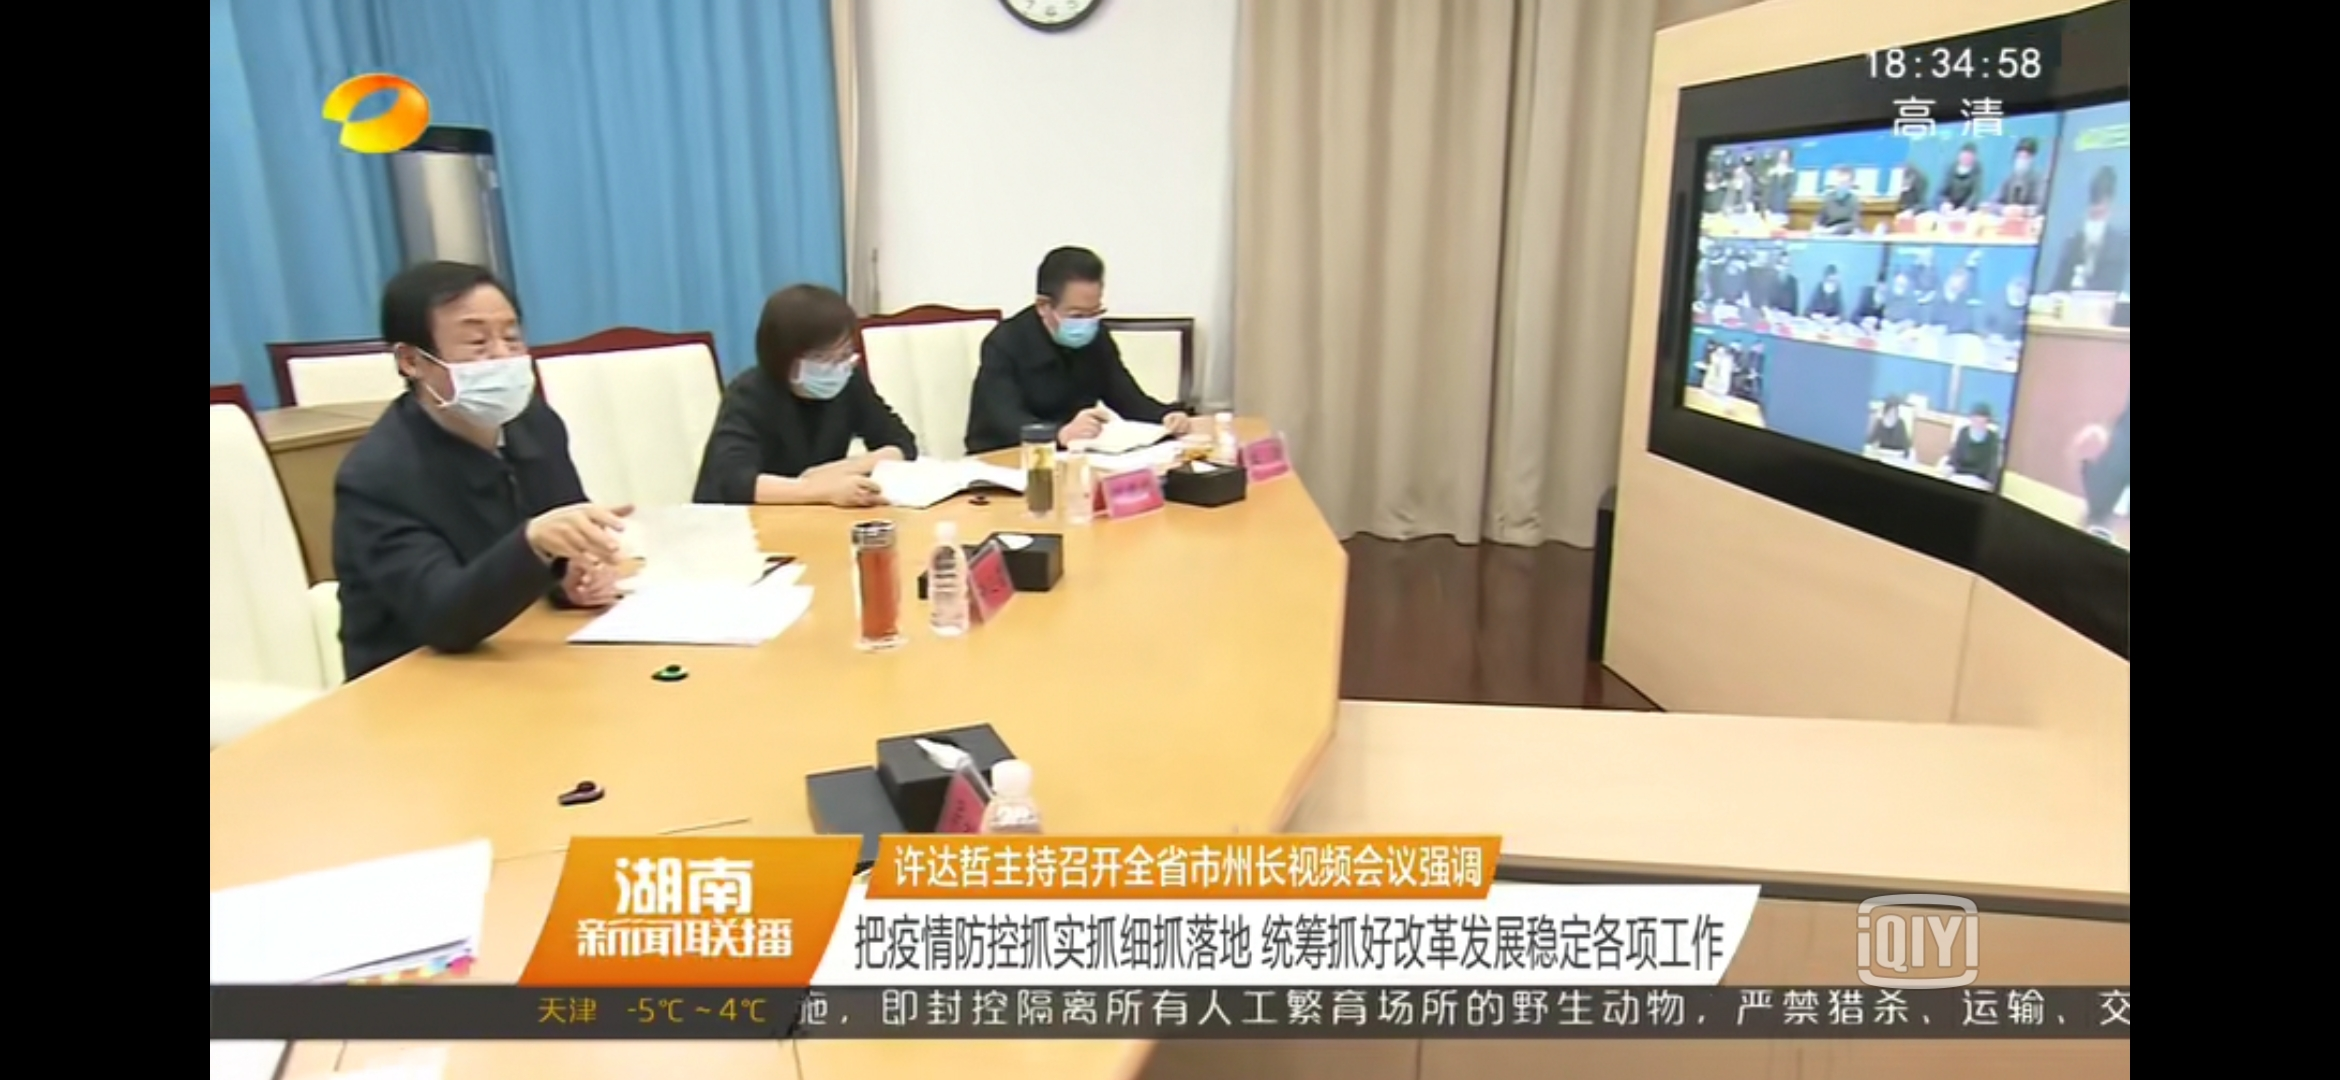correctlyWear: (791, 330, 863, 398), (1033, 283, 1106, 349)
incorrectlyWear: (390, 301, 537, 433)
